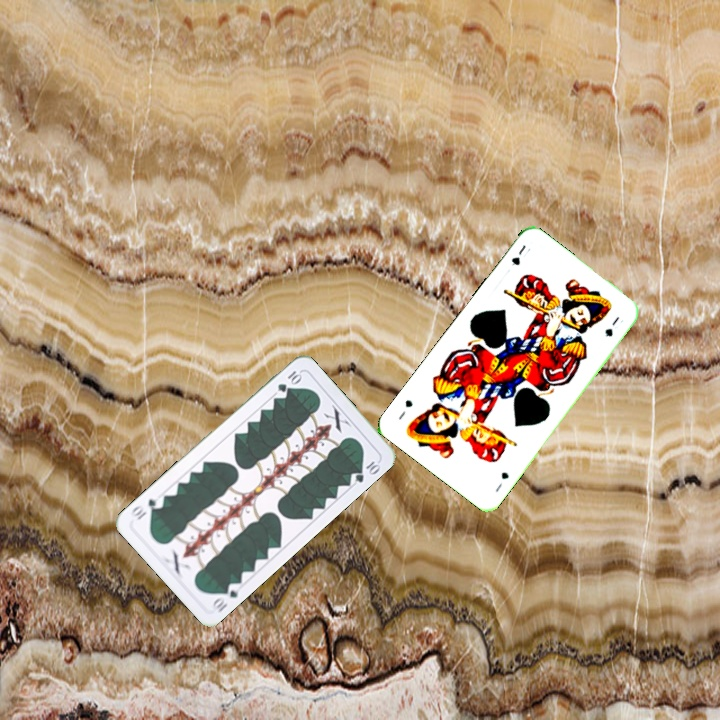G10: (208, 578, 244, 615), (273, 366, 304, 395)
GU: (507, 241, 529, 268), (491, 468, 512, 495)
